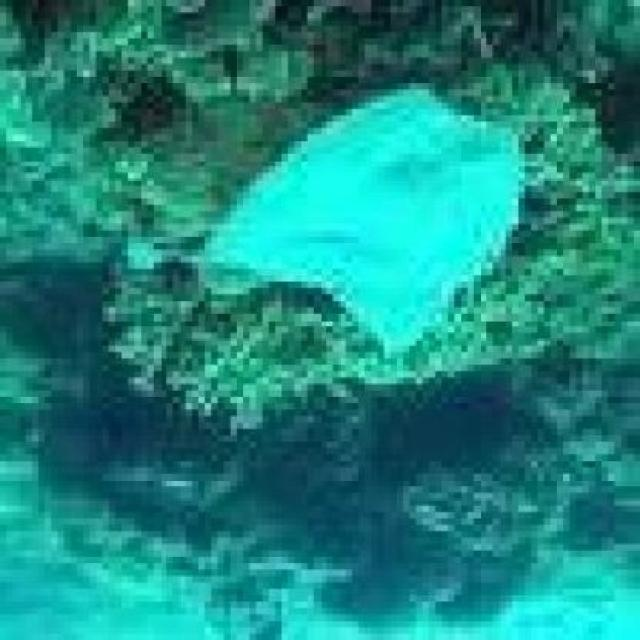pbag: (192, 83, 532, 365)
